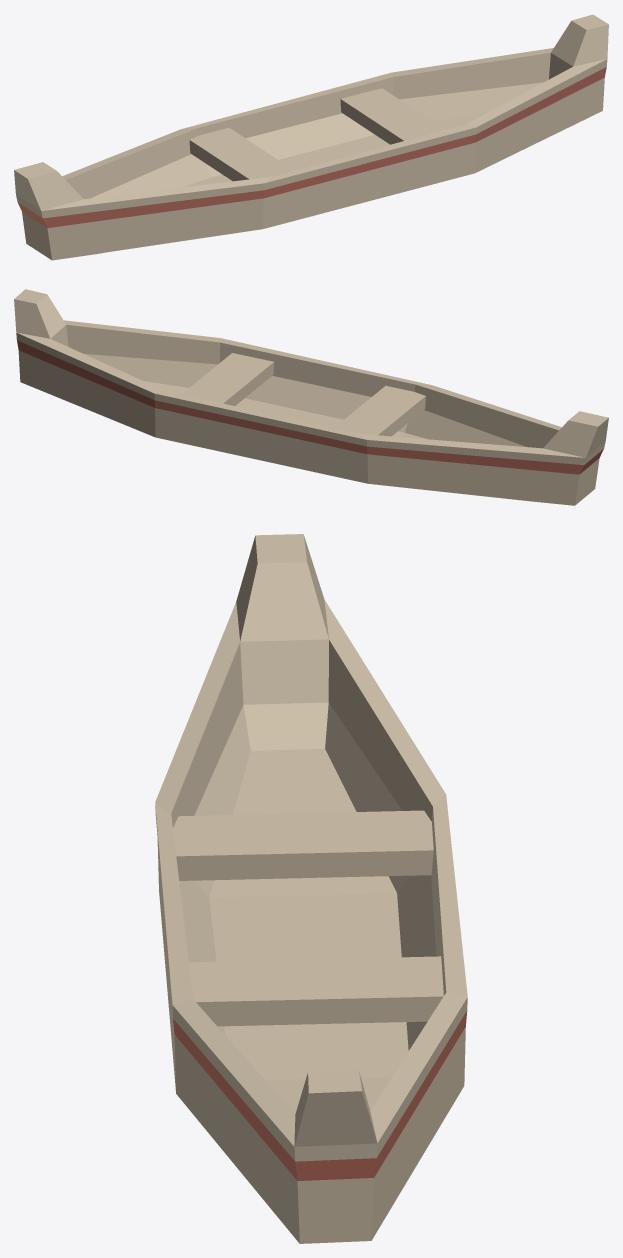
The model's file is Boat.fbx.
3 renders of one model, top to bottom at view 1: azimuth 30°, elevation 25°; view 2: azimuth 150°, elevation 25°; view 3: azimuth 270°, elevation 25°, orthographic. The views are drawn at different scales.
Parts seen in each view (by area): view 1: Boat; view 2: Boat; view 3: Boat.
Boxes of the visible parts, x1,y1,x2,y2 form: Boat: (14,14,608,260); Boat: (14,289,608,505); Boat: (155,534,467,1243).
Size of the model in its own units: 288 by 68.13 by 42.04.
